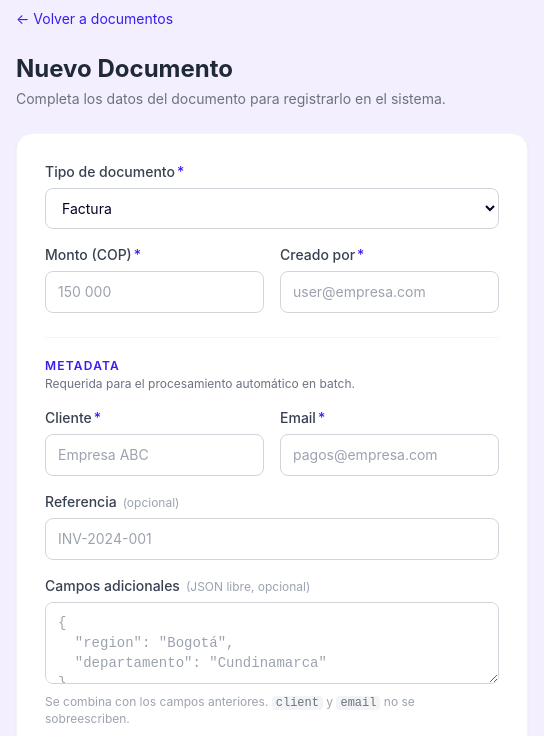
Test case: DocumentCreatePage › shows default error message when API error has no detail
Select "Factura" in the dropdown at [272, 208], box [45,188,499,229]
Type "5000" into the number field with placeholder "150 000" at [154, 292], box [45,271,264,313]
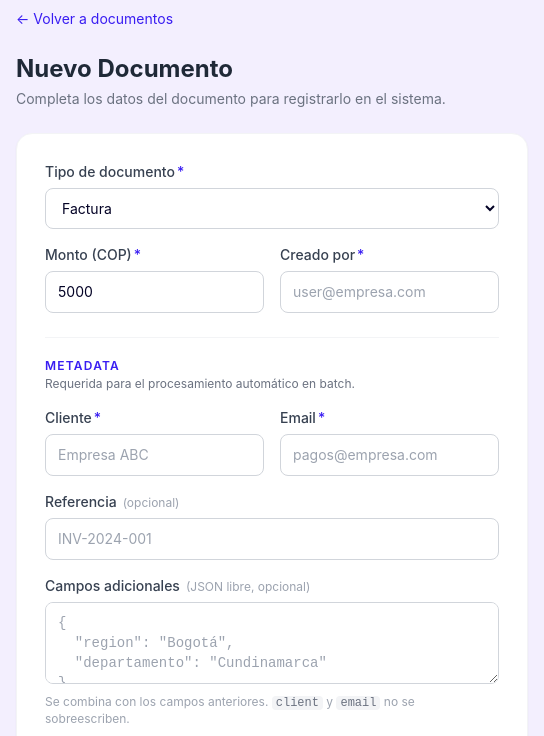
Type "user@test.com" into the field with placeholder "user@empresa.com" at [390, 292], box [280,271,499,313]
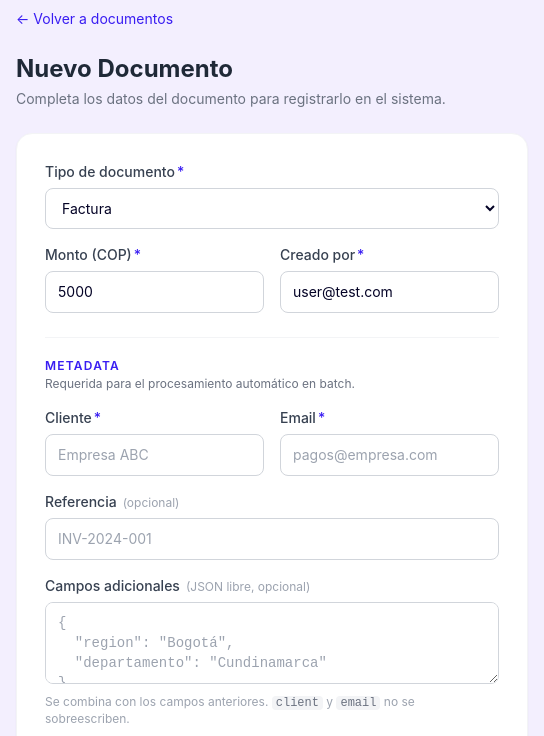
Type "ClientX" into the field with placeholder "Empresa ABC" at [154, 455], box [45,434,264,476]
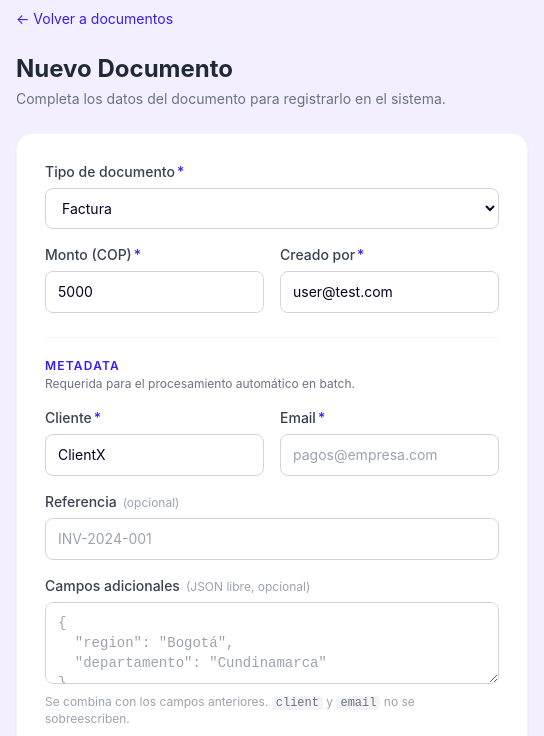
Type "cx@test.com" into the field with placeholder "pagos@empresa.com" at [390, 455], box [280,434,499,476]
(page scrolled)
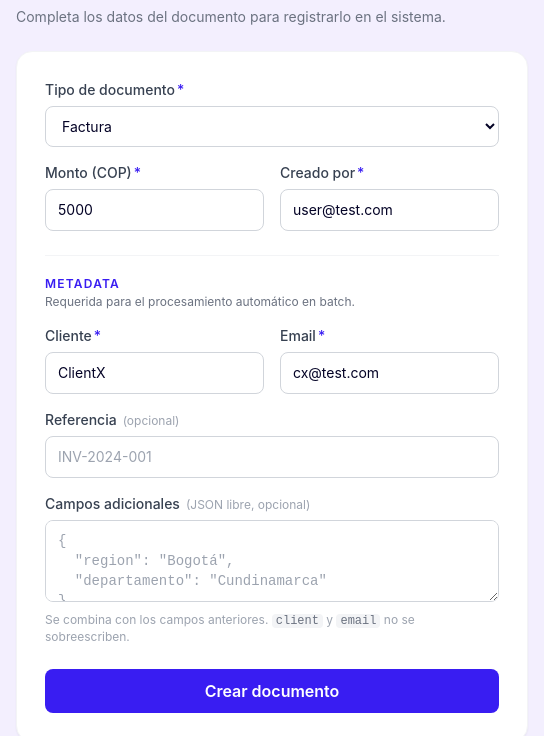
Click the button "Crear documento" at [272, 691], box [45,669,499,713]
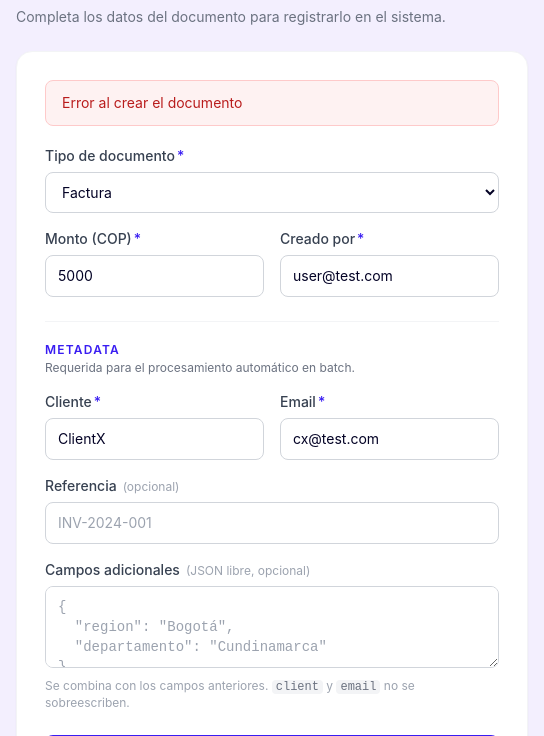
Now the text "Error al crear el documento" is shown, box [45,80,499,126]
